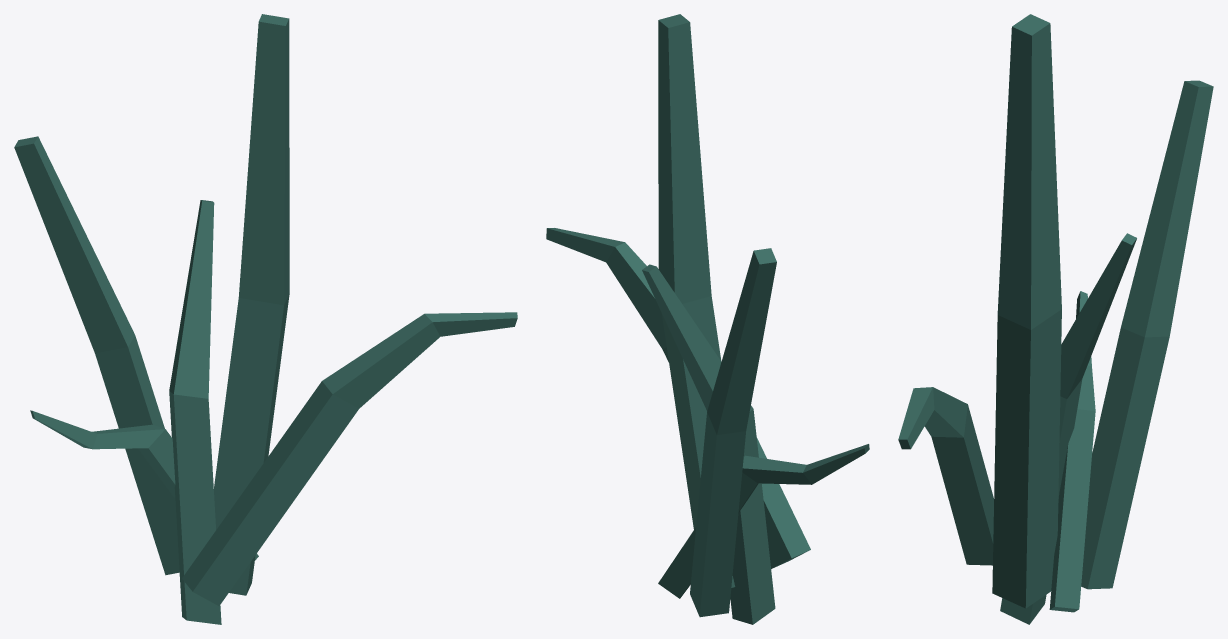
Rendered from fbGrass1.fbx.
The picture shows the model from 3 angles, left to right: view 1: azimuth 30°, elevation 25°; view 2: azimuth 150°, elevation 25°; view 3: azimuth 270°, elevation 25°; orthographic projection. The views are drawn at different scales.
Parts seen in each view (by area): view 1: fbGrass1; view 2: fbGrass1; view 3: fbGrass1.
Boxes of the visible parts, <box> form: fbGrass1: <box>14,14,517,624</box>; fbGrass1: <box>546,14,869,624</box>; fbGrass1: <box>898,14,1213,624</box>.
Size of the model in its own units: 53.83 by 74.96 by 33.85.
